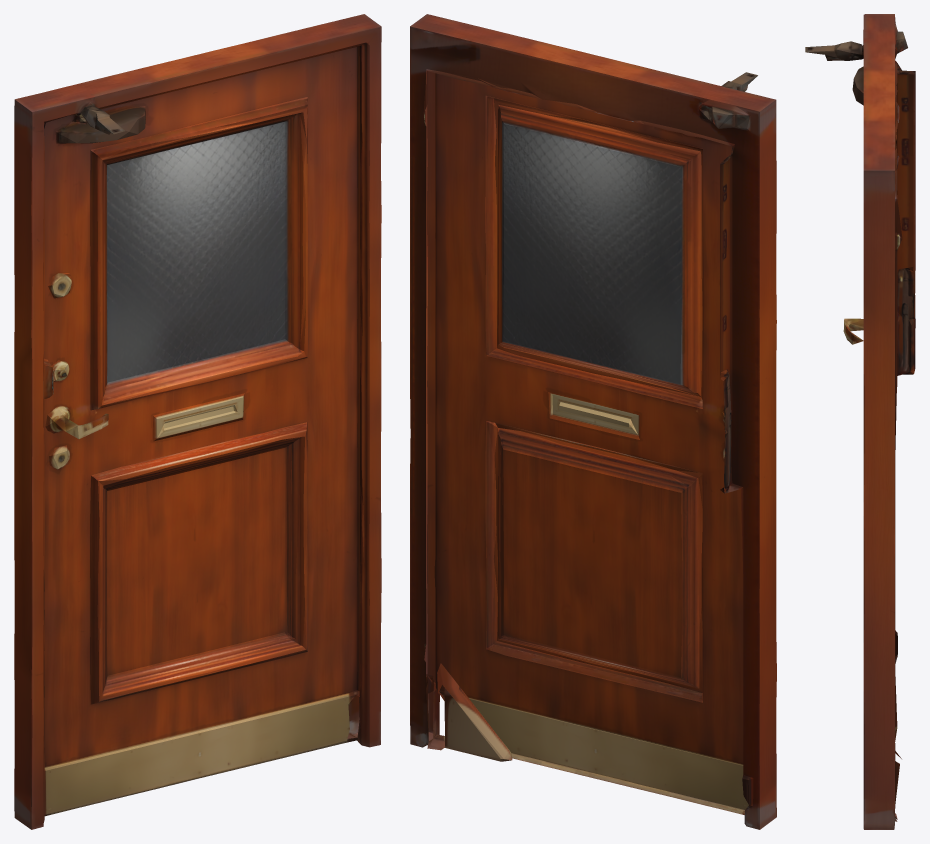
File: door_export.fbx
3 renders of one model, left to right at view 1: azimuth 30°, elevation 25°; view 2: azimuth 150°, elevation 25°; view 3: azimuth 270°, elevation 25°, orthographic. The views are drawn at different scales.
Parts seen in each view (by area): view 1: door_low; view 2: door_low; view 3: door_low.
Part boxes in pixels (bbox=[...]): door_low: bbox=[14, 14, 381, 829]; door_low: bbox=[410, 14, 776, 829]; door_low: bbox=[805, 14, 915, 829].
Bounding box in the file's own units: 1.02 × 2.01 × 0.3045.
Materials: 1 (1 with a texture image).
